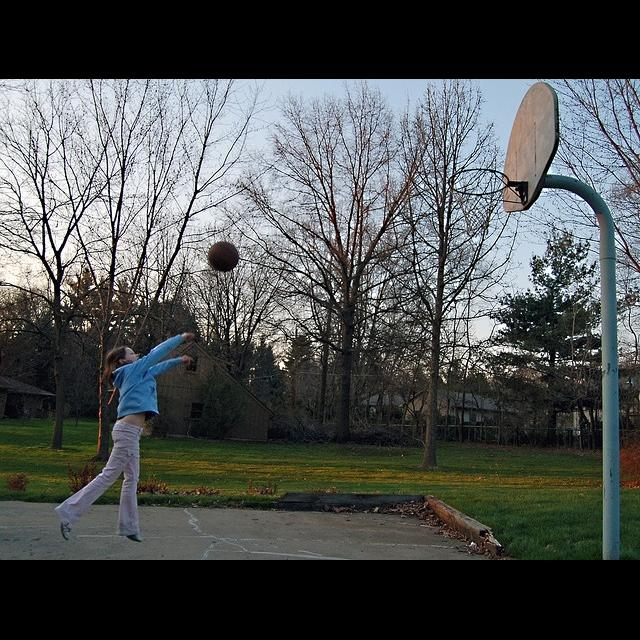basketball: (206, 242, 241, 272)
hoop: (446, 171, 509, 240)
